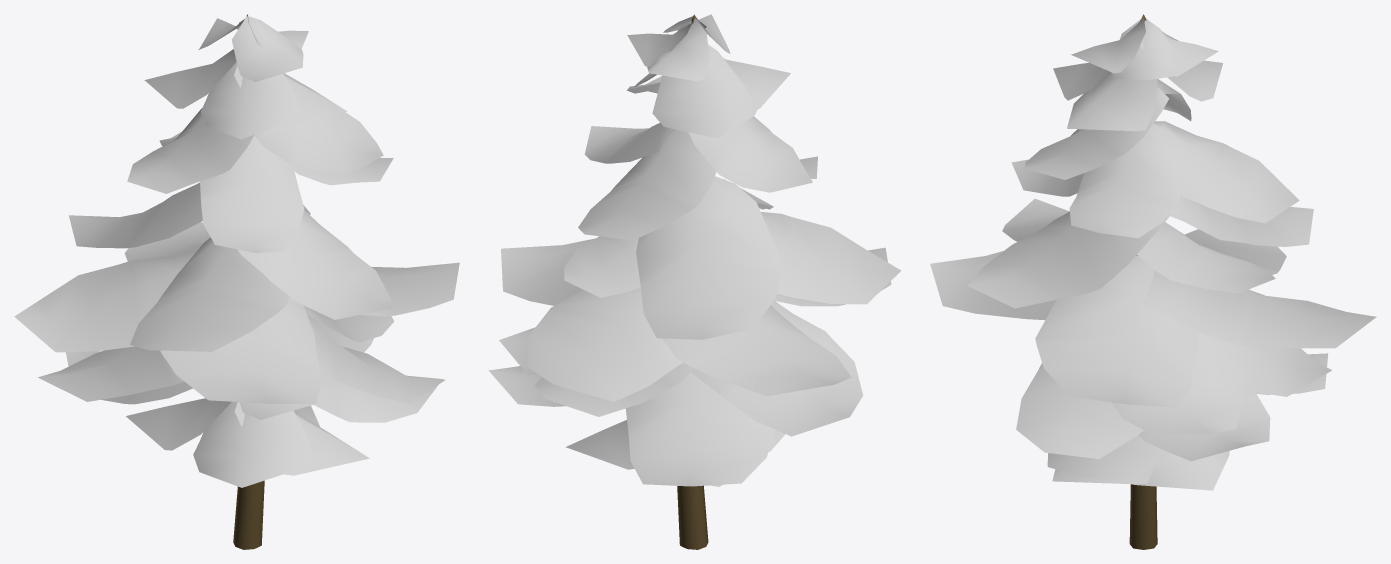
File: PineTree_5.glb
3 renders of one model, left to right at view 1: azimuth 30°, elevation 25°; view 2: azimuth 150°, elevation 25°; view 3: azimuth 270°, elevation 25°, orthographic.
Parts seen in each view (by area): view 1: PineTree_5_Cube.011; view 2: PineTree_5_Cube.011; view 3: PineTree_5_Cube.011.
Boxes of the visible parts, <box> form: PineTree_5_Cube.011: <box>14,14,459,549</box>; PineTree_5_Cube.011: <box>488,14,901,549</box>; PineTree_5_Cube.011: <box>930,14,1376,549</box>.
Bounding box in the file's own units: 3.31 × 4.3 × 3.29.
